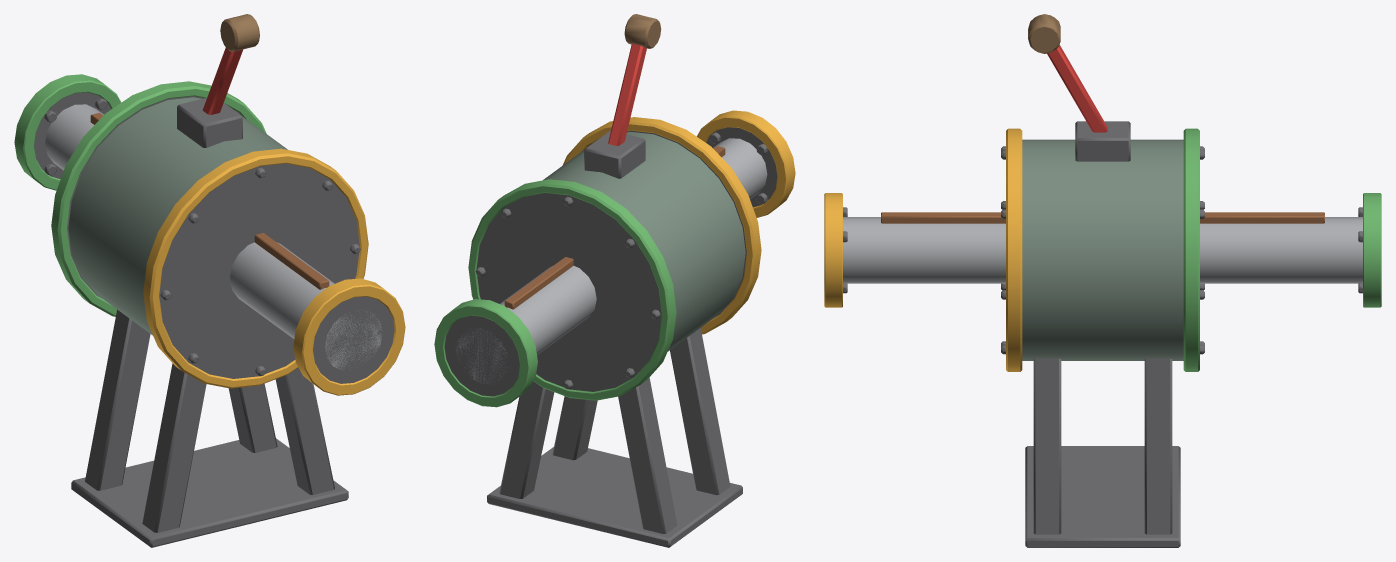
Rendered from feClutch.fbx.
3 views of the same model, side by side, from view 1: azimuth 30°, elevation 25°; view 2: azimuth 150°, elevation 25°; view 3: azimuth 270°, elevation 25° (orthographic). The views are drawn at different scales.
Visible parts, largest first — view 1: feClutch_Base, FeSpinOut_Clutch, FeSpinIn_Clutch; view 2: feClutch_Base, FeSpinIn_Clutch, FeSpinOut_Clutch; view 3: feClutch_Base, FeSpinIn_Clutch, FeSpinOut_Clutch.
Boxes of the visible parts, x1=… form: feClutch_Base: x1=51, y1=14, x2=368, y2=547; FeSpinOut_Clutch: x1=229, y1=233, x2=405, y2=395; FeSpinIn_Clutch: x1=14, y1=74, x2=121, y2=190; feClutch_Base: x1=468, y1=14, x2=761, y2=547; FeSpinIn_Clutch: x1=434, y1=257, x2=596, y2=407; FeSpinOut_Clutch: x1=697, y1=110, x2=795, y2=217; feClutch_Base: x1=1001, y1=14, x2=1204, y2=547; FeSpinIn_Clutch: x1=1200, y1=193, x2=1381, y2=307; FeSpinOut_Clutch: x1=824, y1=193, x2=1005, y2=307.
Bounding box in the file's own units: 0.44 × 0.9642 × 1.
